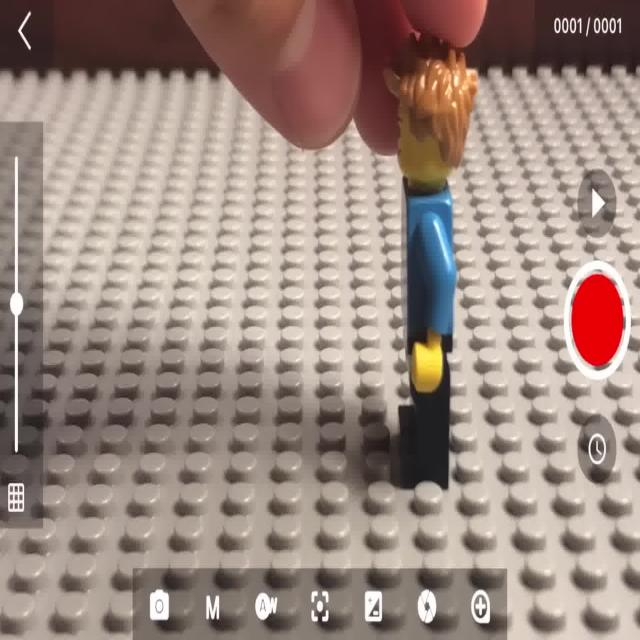4: (412, 214, 455, 394)
hand: (382, 22, 477, 486)
